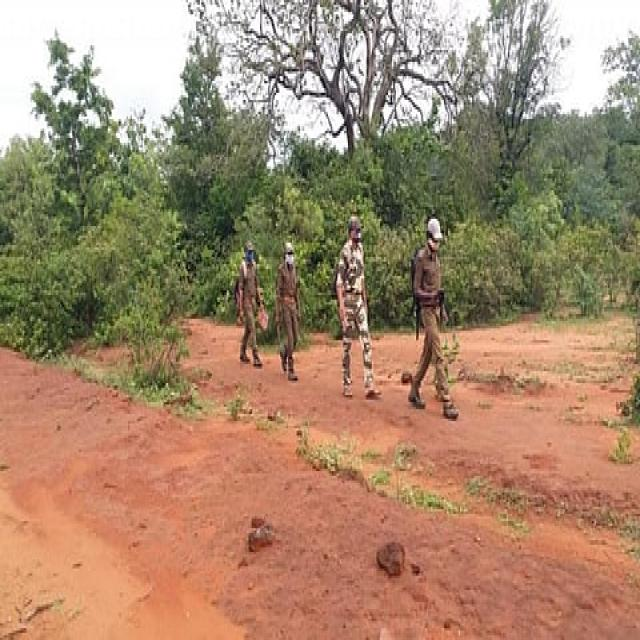Forest: (0, 0, 640, 640)
Militant: (396, 202, 456, 422), (332, 204, 380, 411), (225, 218, 271, 379), (269, 222, 312, 384)
